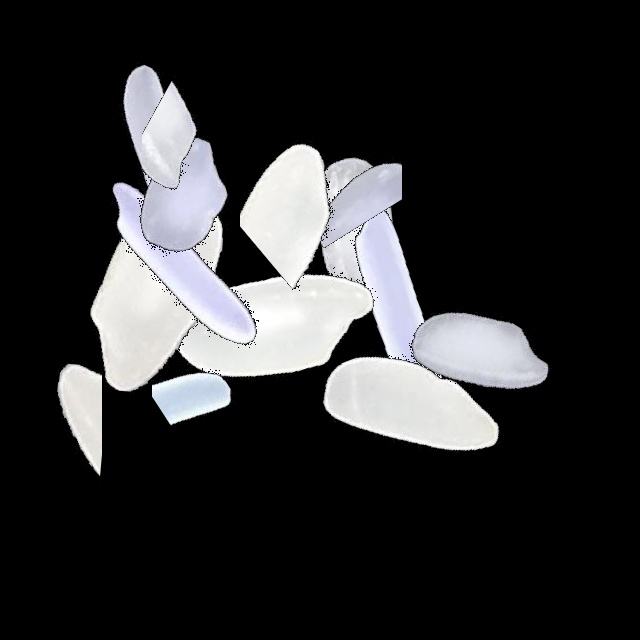Broken: (240, 76, 384, 326), (273, 38, 402, 288), (142, 25, 265, 275), (152, 254, 266, 504), (8, 315, 102, 565), (300, 66, 550, 144)
Full: (229, 102, 479, 352), (272, 178, 522, 428), (151, 199, 401, 449), (29, 168, 279, 418), (284, 283, 534, 533), (33, 13, 283, 263), (56, 139, 306, 389), (357, 229, 607, 479), (53, 71, 303, 321)
